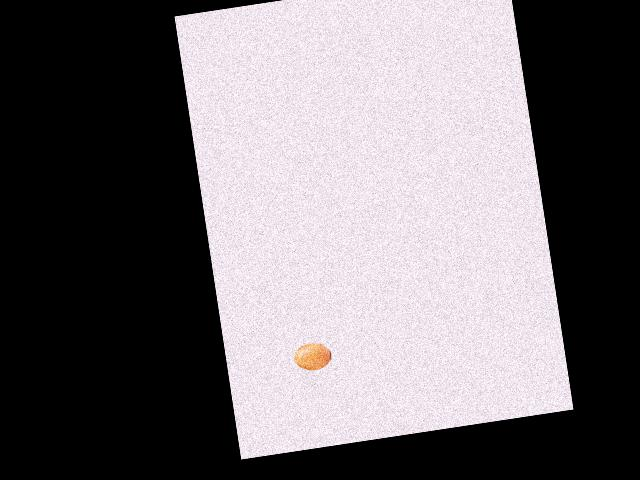egg: (292, 341, 332, 373)
